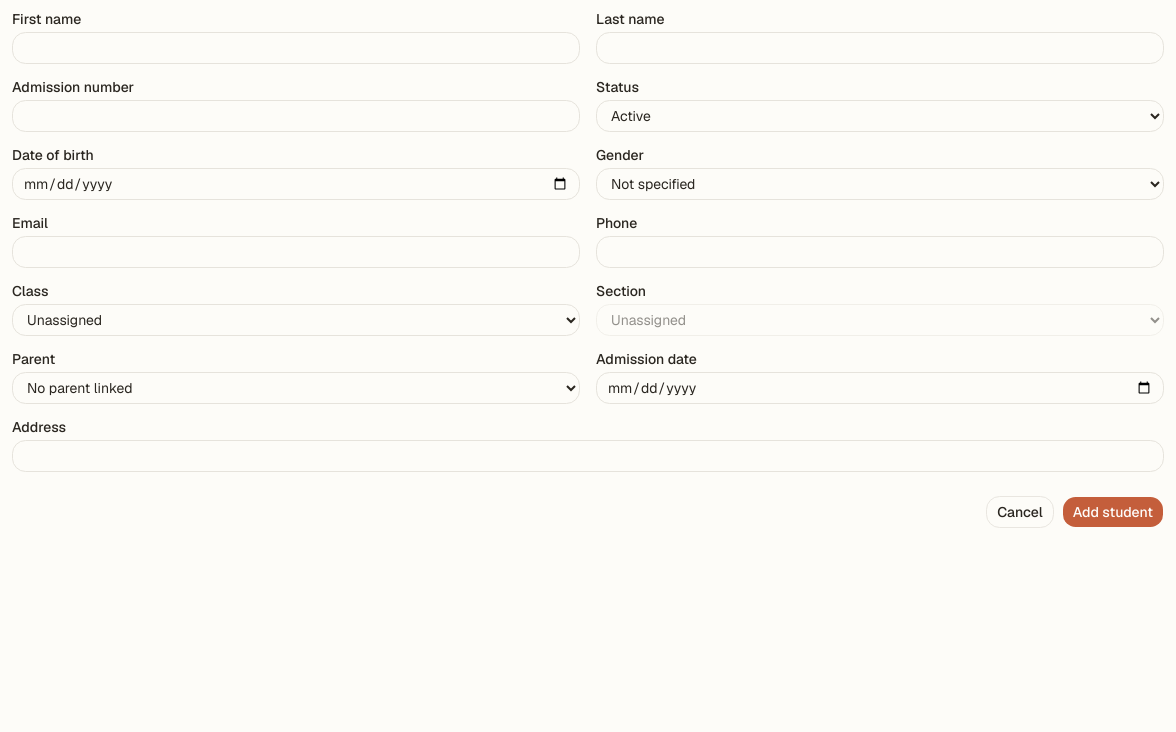
Test: StudentForm › rejects an invalid email
Type "nope" into the field labelled "Email" at (296, 252), box [12,236,580,268]
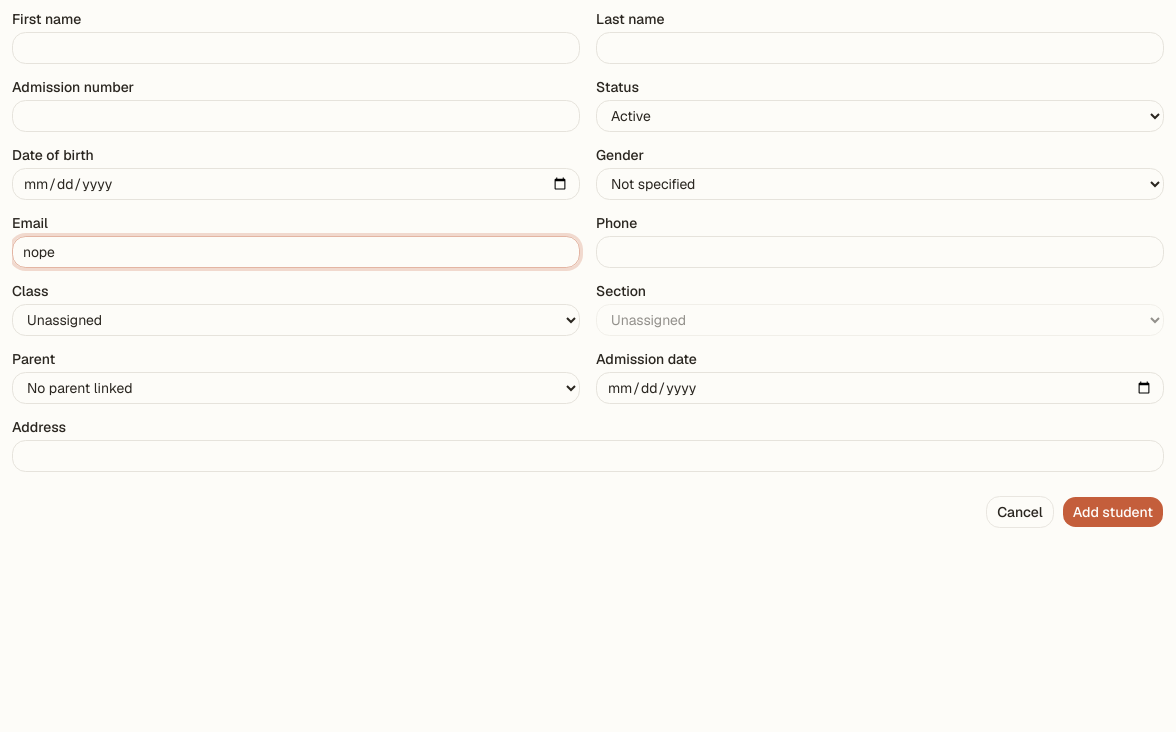
Click the button "Add student" at (1113, 512), box [1062,496,1164,528]
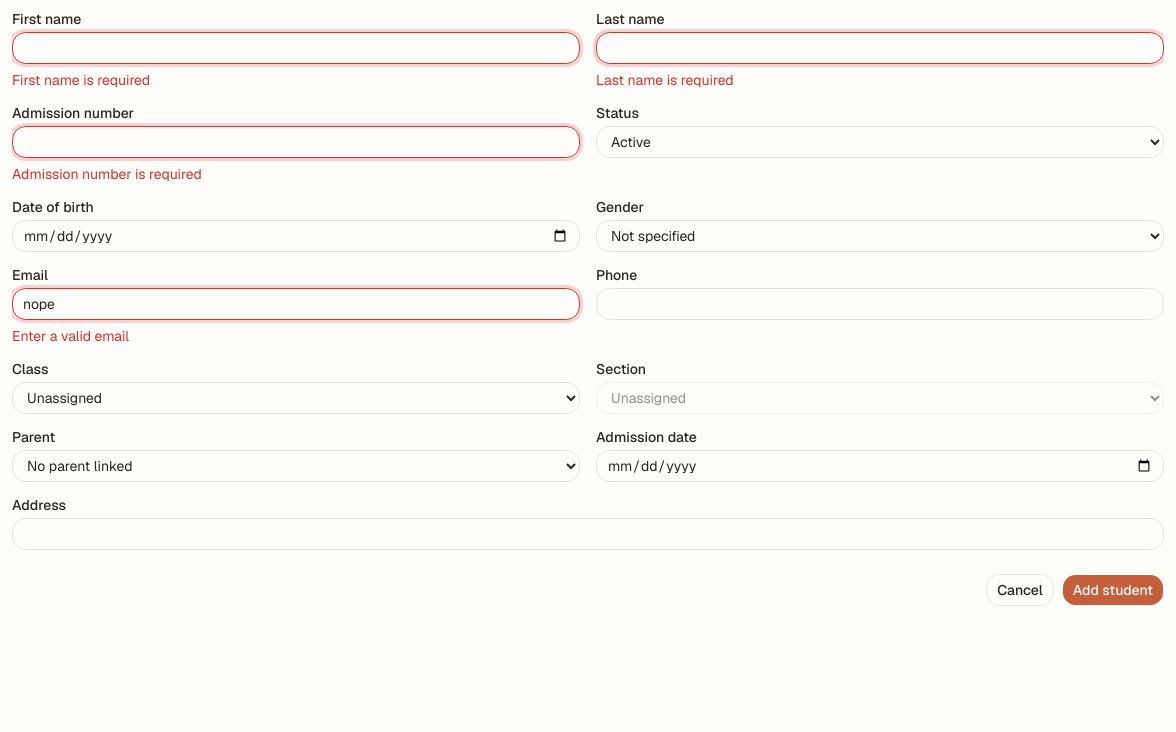
Now the text "Enter a valid email" is shown, box [12,327,129,345]
